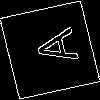A: (25, 25, 79, 70)
